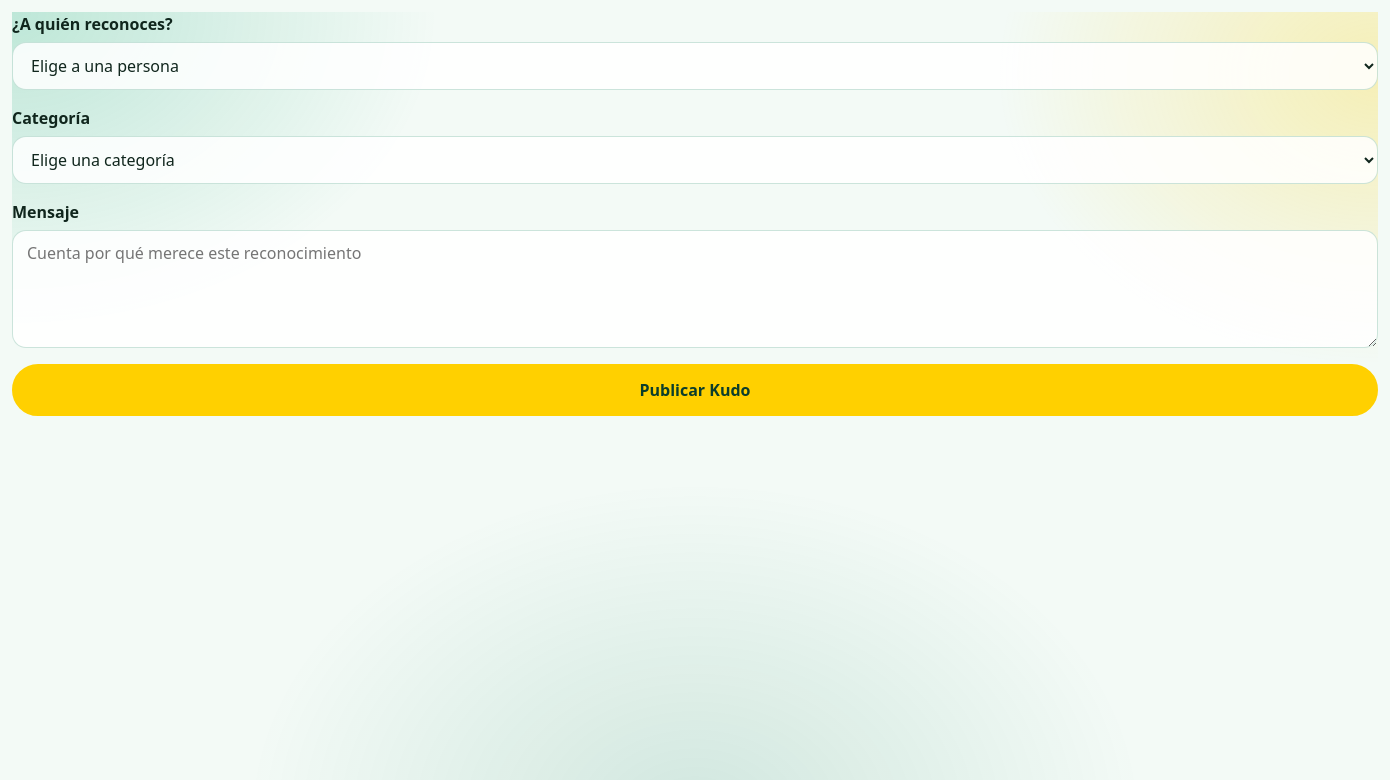
FormularioDePublicacion › explica el rechazo CATEGORIA_NO_DISPONIBLE de la API
Step 1. Select "Beto Estudiante" in the dropdown labelled "¿A quién reconoces?" → (695, 66), box [12, 42, 1378, 90]
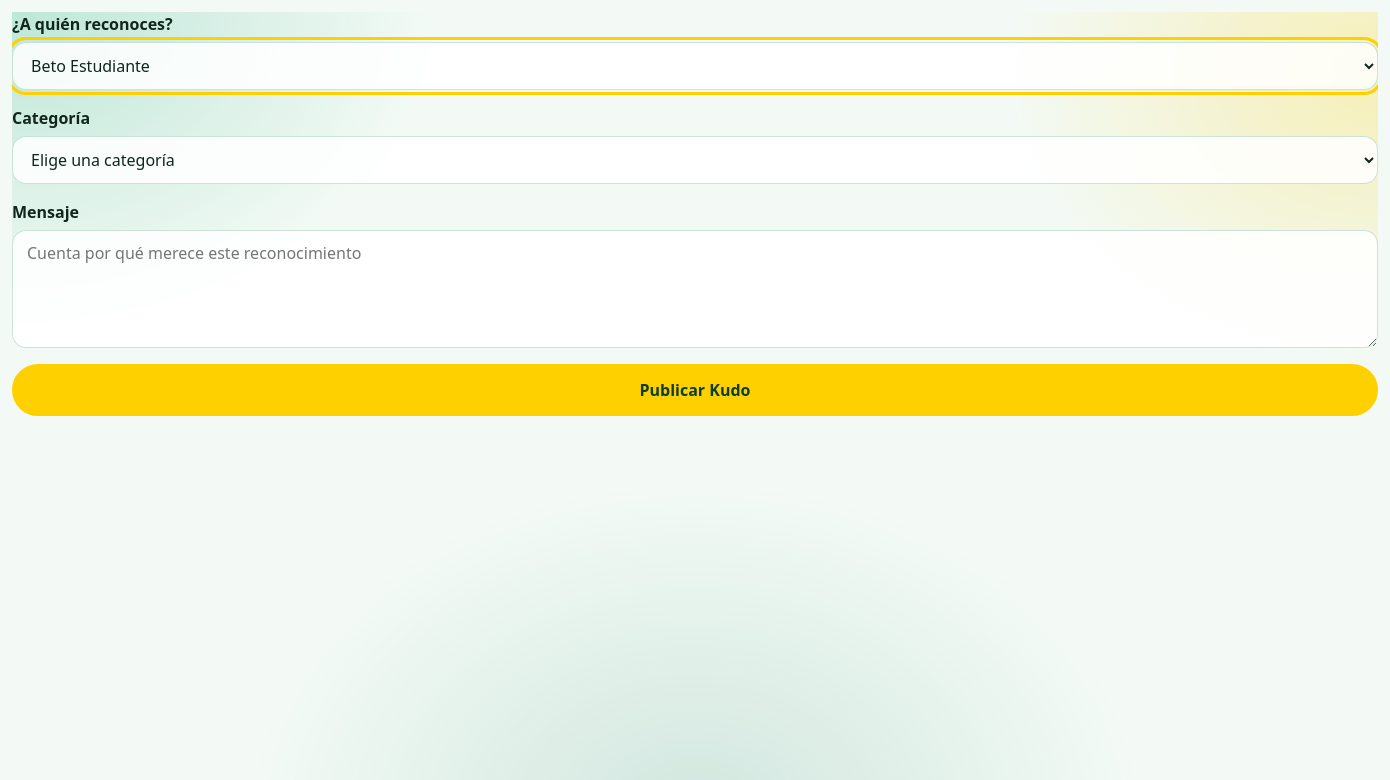
Step 2. Select "Innovación" in the dropdown labelled "Categoría" → (695, 160), box [12, 136, 1378, 184]
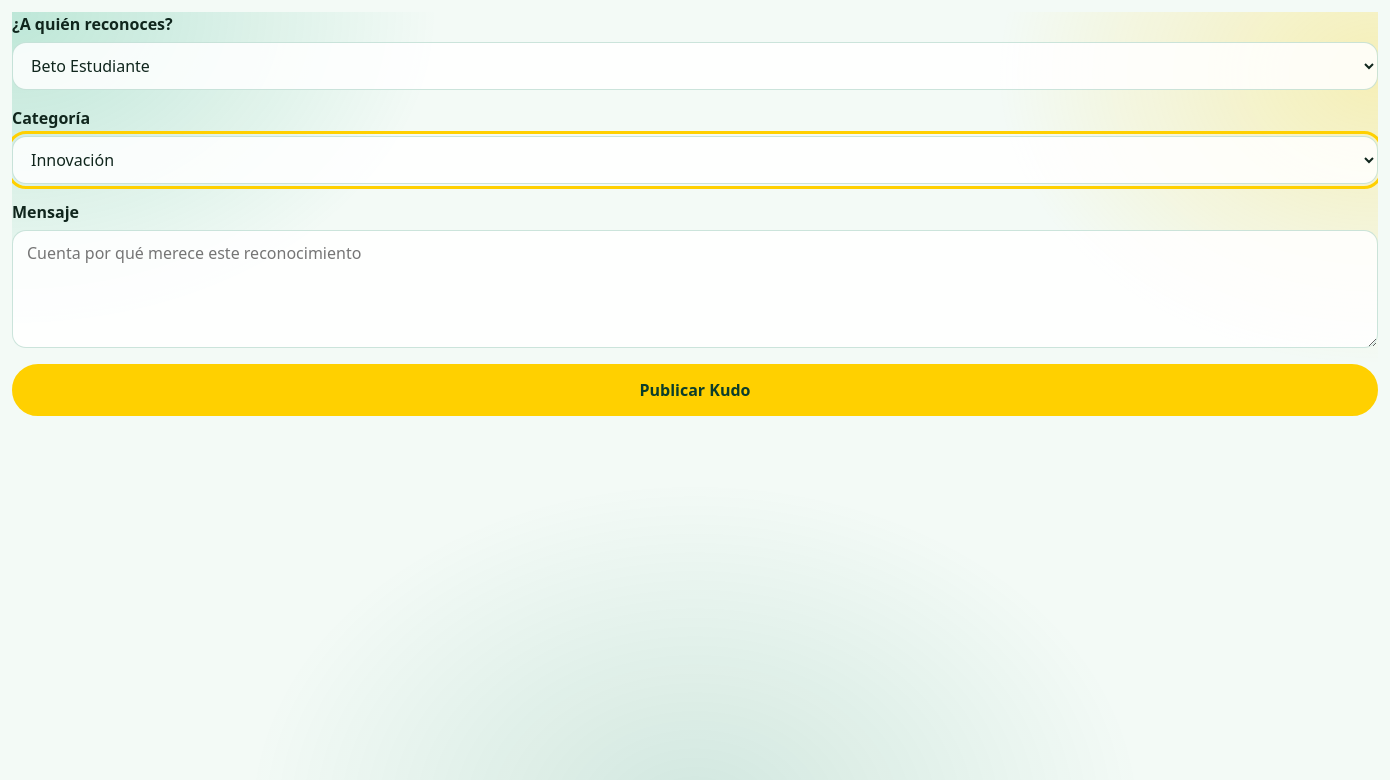
Step 3. Type "Gracias por todo" into the text box labelled "Mensaje" → (695, 289), box [12, 230, 1378, 348]
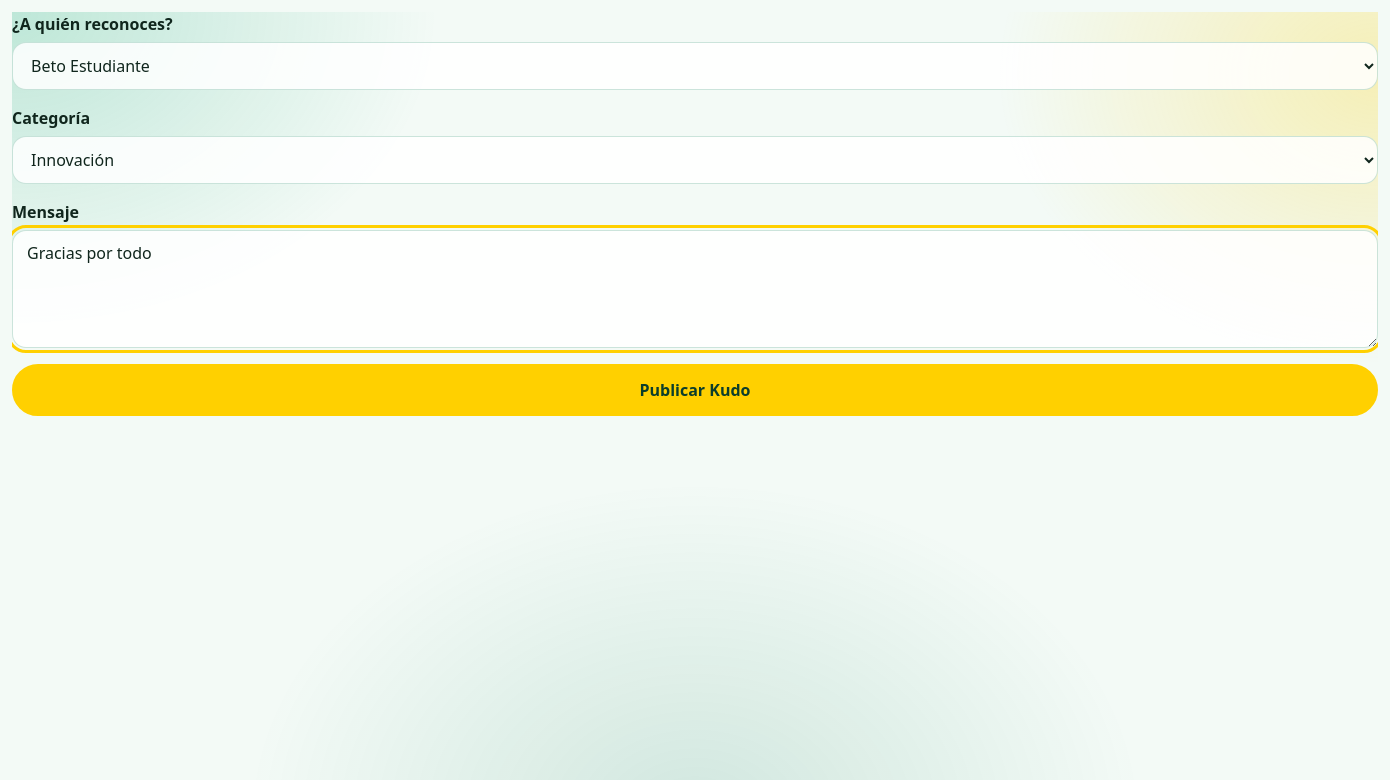
Step 4. Click the button "Publicar Kudo" → (695, 390), box [12, 364, 1378, 416]
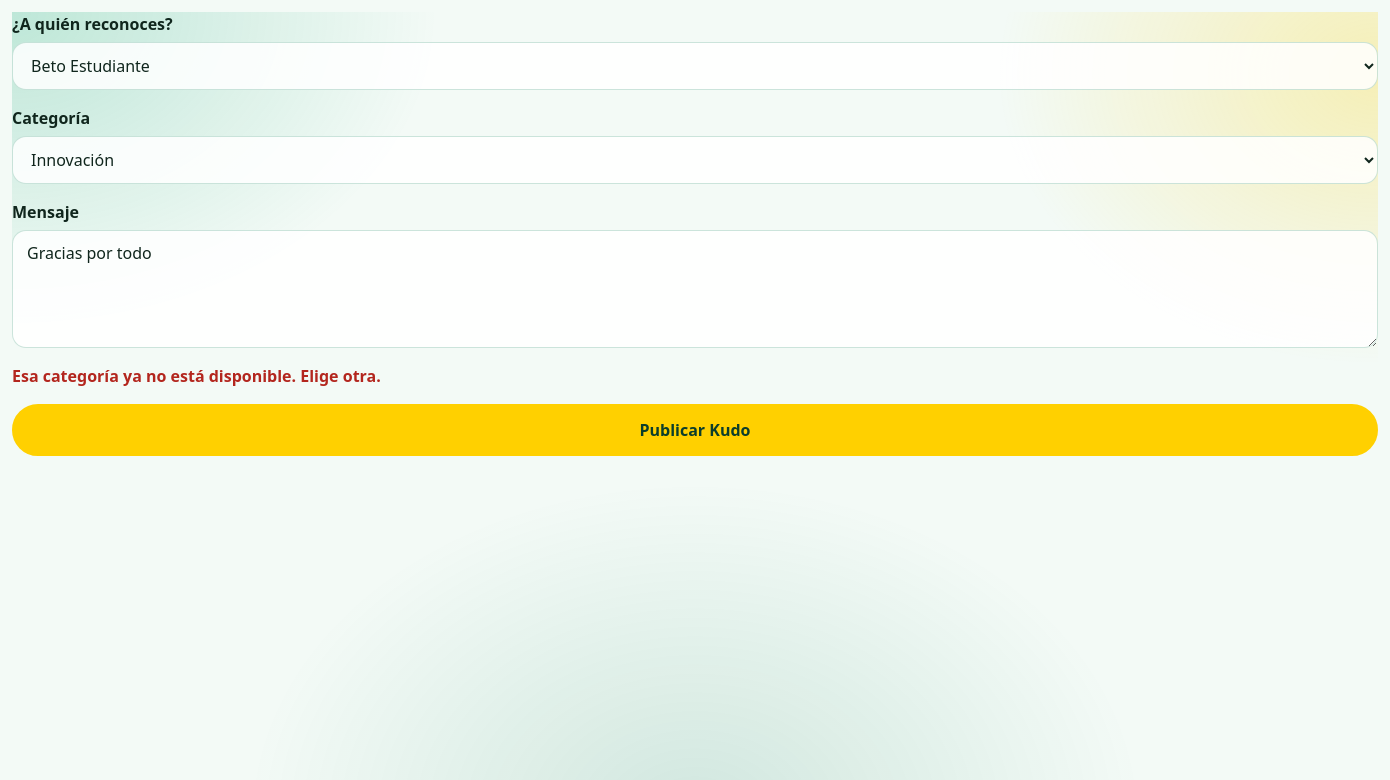
Expected: the message shows "Esa categoría ya no está disponible", [12, 365, 381, 387]
